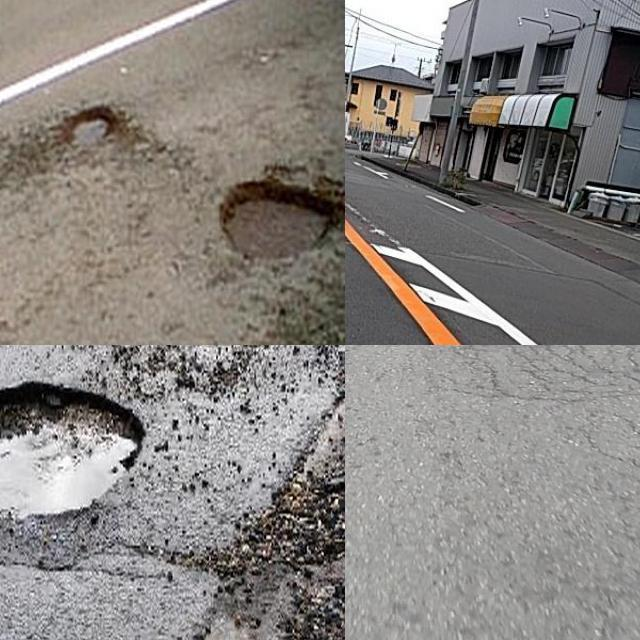Lubang: (0, 387, 153, 544), (222, 175, 342, 258), (63, 110, 123, 146)
Retak Buaya: (460, 345, 640, 418)
